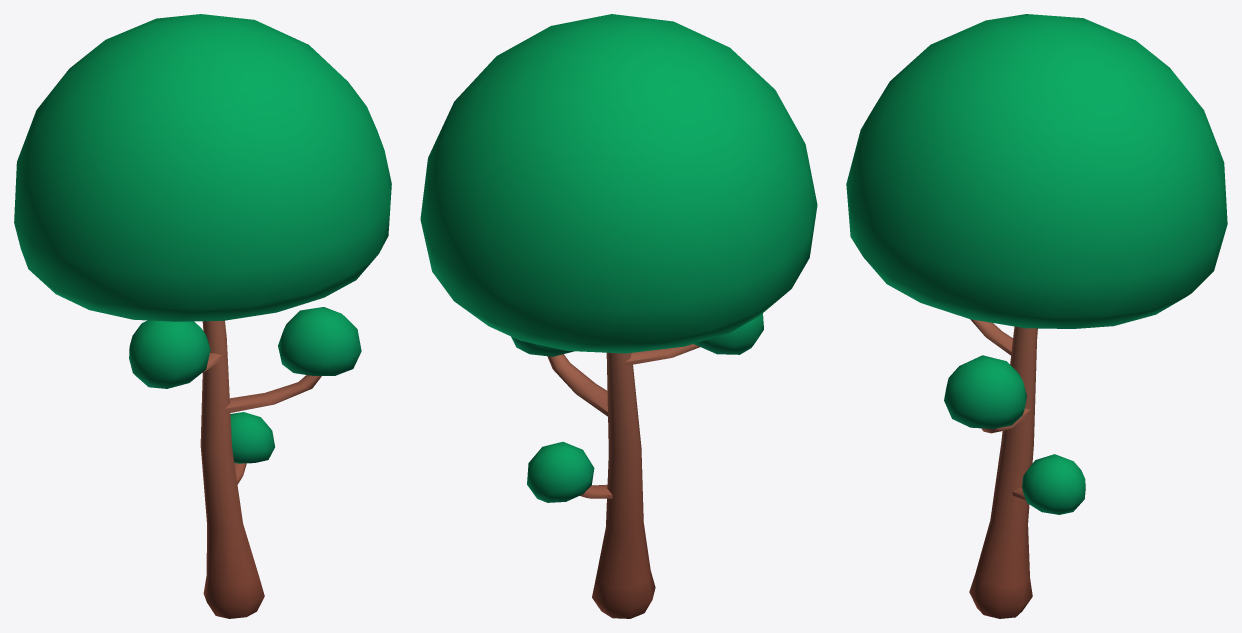
The model's file is import_demo.glb.
The picture shows the model from 3 angles, left to right: view 1: azimuth 30°, elevation 25°; view 2: azimuth 150°, elevation 25°; view 3: azimuth 270°, elevation 25°; orthographic projection. The views are drawn at different scales.
Visible parts, largest first — view 1: Tree-col; view 2: Tree-col; view 3: Tree-col.
Part boxes in pixels (x1,y1,x2,y2): Tree-col: (14, 14, 391, 618); Tree-col: (420, 14, 817, 618); Tree-col: (846, 14, 1227, 618).
Size of the model in its own units: 12.14 by 20.1 by 12.1.
Materials: 1 (1 with a texture image).
